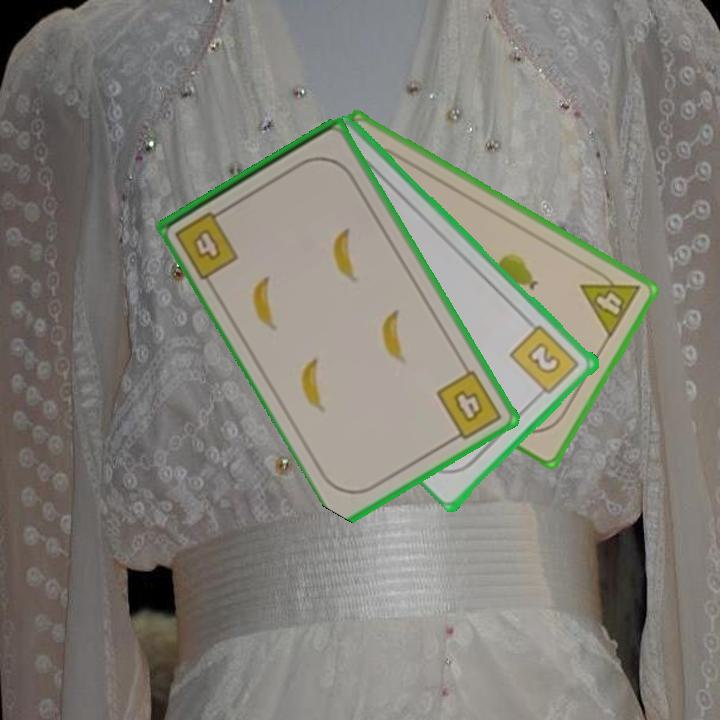2b: (507, 321, 583, 402)
4b: (432, 366, 505, 445), (171, 204, 242, 282)
4p: (577, 263, 643, 341)
